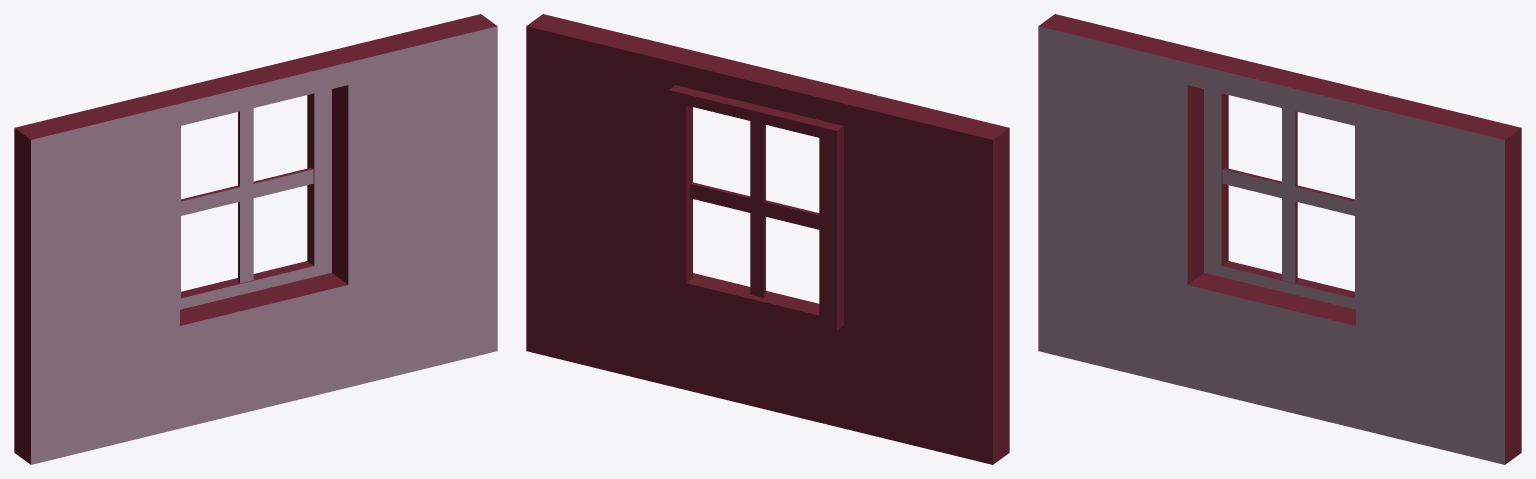
The model's file is Window1.glb.
The picture shows the model from 3 angles, left to right: view 1: azimuth 30°, elevation 25°; view 2: azimuth 150°, elevation 25°; view 3: azimuth 330°, elevation 25°; orthographic projection.
Parts seen in each view (by area): view 1: PRINCIPALOFFICEwallsfloor.001; view 2: PRINCIPALOFFICEwallsfloor.001; view 3: PRINCIPALOFFICEwallsfloor.001.
Part boxes in pixels (x1=…): PRINCIPALOFFICEwallsfloor.001: x1=14, y1=14, x2=497, y2=464; PRINCIPALOFFICEwallsfloor.001: x1=526, y1=14, x2=1009, y2=464; PRINCIPALOFFICEwallsfloor.001: x1=1038, y1=14, x2=1521, y2=464.
Size of the model in its own units: 4.87 by 3.24 by 0.424.
